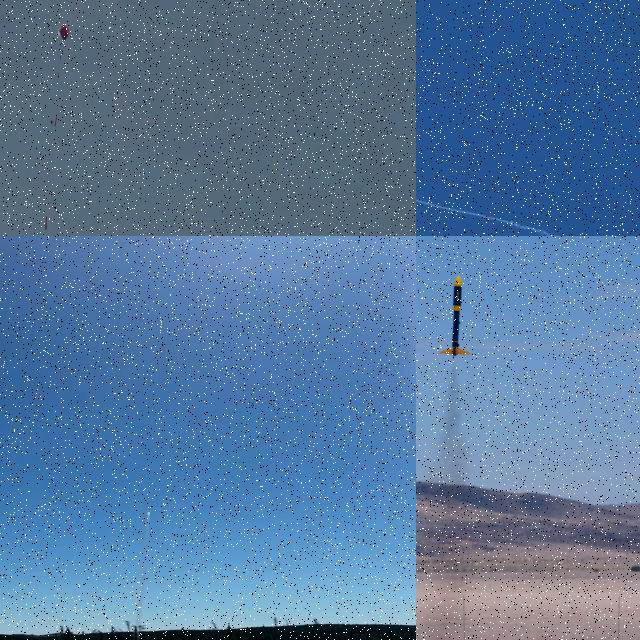Rocket: (440, 274, 472, 358), (146, 508, 151, 516), (45, 215, 47, 230)
